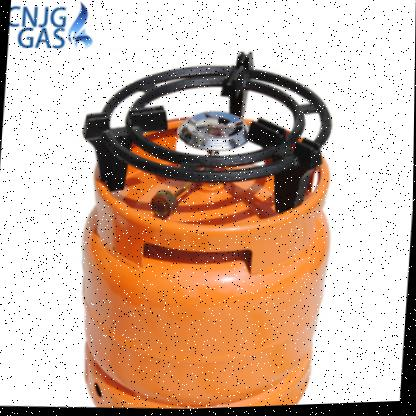gas-tank: (60, 100, 355, 413)
